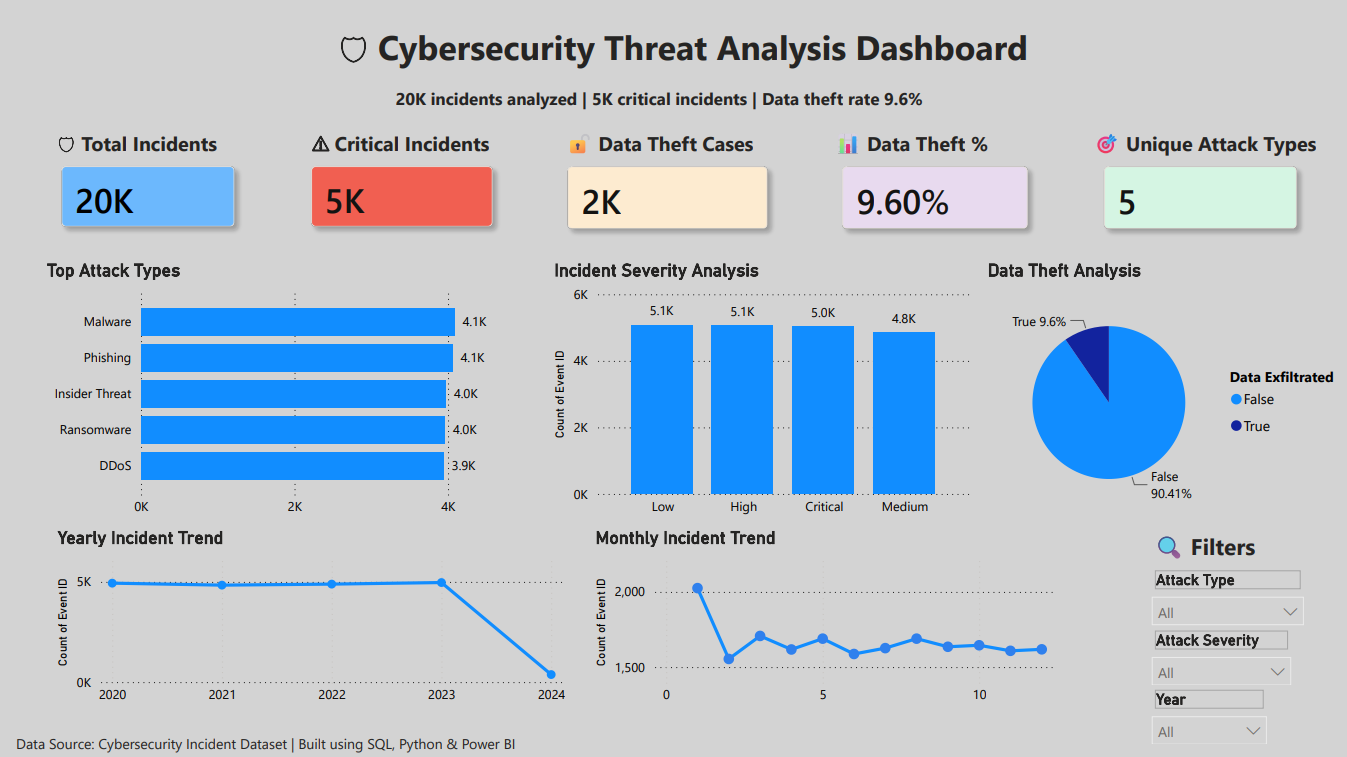

The page's visual inventory and layout, read from the dashboard file:
{"tool":"powerbi","page":{"name":"Page 1","canvas":[1280,720],"ordinal":0},"visuals":[{"type":"textbox","box":[9.8,15.9,1270.5,69.7],"z":0},{"type":"cardVisual","fields":{"Data":["cybersecurity_cleaned.Data Theft Cases"]},"box":[507.9,127.9,246.1,117],"z":1000},{"type":"clusteredBarChart","title":"Top Attack Types","fields":{"Category":["cybersecurity_cleaned.Attack Type"],"Y":["CountNonNull(cybersecurity_cleaned.Event ID)"]},"box":[38.6,244.9,469.3,252.1],"z":2000},{"type":"clusteredColumnChart","title":"Incident Severity Analysis","fields":{"Category":["cybersecurity_cleaned.Attack Severity"],"Y":["CountNonNull(cybersecurity_cleaned.Event ID)"]},"box":[518.8,244.9,403,252.1],"z":3000},{"type":"lineChart","title":"Yearly Incident Trend","fields":{"Y":["CountNonNull(cybersecurity_cleaned.Event ID)"],"Category":["cybersecurity_cleaned.Year"]},"box":[48.8,497.5,490,177.5],"z":4000},{"type":"lineChart","title":"Monthly Incident Trend","fields":{"Category":["cybersecurity_cleaned.Month"],"Y":["CountNonNull(cybersecurity_cleaned.Event ID)"]},"box":[557.5,497.5,442.5,177.5],"z":5000},{"type":"slicer","fields":{"Values":["cybersecurity_cleaned.Attack Type"]},"box":[1078.6,534.5,164.1,71.2],"z":6000},{"type":"slicer","fields":{"Values":["cybersecurity_cleaned.Attack Severity"]},"box":[1078.6,591.2,152,55.5],"z":7000},{"type":"slicer","fields":{"Values":["cybersecurity_cleaned.Year"]},"box":[1078.6,646.7,129.1,56.7],"z":8000},{"type":"pieChart","title":"Data Theft Analysis","fields":{"Category":["cybersecurity_cleaned.Data Exfiltrated"],"Y":["CountNonNull(cybersecurity_cleaned.Event ID)"]},"box":[929,244.9,351.1,252.1],"z":9000},{"type":"cardVisual","fields":{"Data":["cybersecurity_cleaned.total incidents"]},"box":[29,127.9,222,115.8],"z":10000},{"type":"textbox","box":[48.3,117,202.7,36.2],"z":11000},{"type":"cardVisual","fields":{"Data":["cybersecurity_cleaned.Critical Incidents"]},"box":[264.8,127.9,229.2,115.8],"z":12000},{"type":"textbox","box":[289.5,117,229.2,41],"z":13000},{"type":"textbox","box":[529.6,117,201.5,42.2],"z":14000},{"type":"textbox","box":[784.2,117,203.9,47.1],"z":15000},{"type":"textbox","box":[1029.1,117,229.2,39.8],"z":16000},{"type":"cardVisual","fields":{"Data":["cybersecurity_cleaned.Data theft %"]},"box":[767.9,127.9,232.8,117],"z":17000},{"type":"cardVisual","fields":{"Data":["cybersecurity_cleaned.Unique Attack Types"]},"box":[1014.6,127.9,240.1,117],"z":18000},{"type":"textbox","box":[1085.8,497.1,114.6,48.3],"z":19000},{"type":"textbox","box":[369.2,77.2,539.3,86.9],"z":20000},{"type":"textbox","box":[10,688.8,530,27.5],"z":21000}]}

Visuals, with their boxes in screenshot pixels (x1, y1, x2, y2), scaled from the page's 1280x720 canvas onto the 1347x757 screenshot:
textbox: {"x1": 10, "y1": 17, "x2": 1346, "y2": 90}
cardVisual - cybersecurity_cleaned.Data Theft Cases: {"x1": 534, "y1": 134, "x2": 793, "y2": 257}
"Top Attack Types" clusteredBarChart: {"x1": 41, "y1": 257, "x2": 534, "y2": 523}
"Incident Severity Analysis" clusteredColumnChart: {"x1": 546, "y1": 257, "x2": 970, "y2": 523}
"Yearly Incident Trend" lineChart: {"x1": 51, "y1": 523, "x2": 567, "y2": 710}
"Monthly Incident Trend" lineChart: {"x1": 587, "y1": 523, "x2": 1052, "y2": 710}
slicer - cybersecurity_cleaned.Attack Type: {"x1": 1135, "y1": 562, "x2": 1308, "y2": 637}
slicer - cybersecurity_cleaned.Attack Severity: {"x1": 1135, "y1": 622, "x2": 1295, "y2": 680}
slicer - cybersecurity_cleaned.Year: {"x1": 1135, "y1": 680, "x2": 1271, "y2": 740}
"Data Theft Analysis" pieChart: {"x1": 978, "y1": 257, "x2": 1346, "y2": 523}
cardVisual - cybersecurity_cleaned.total incidents: {"x1": 31, "y1": 134, "x2": 264, "y2": 256}
textbox: {"x1": 51, "y1": 123, "x2": 264, "y2": 161}
cardVisual - cybersecurity_cleaned.Critical Incidents: {"x1": 279, "y1": 134, "x2": 520, "y2": 256}
textbox: {"x1": 305, "y1": 123, "x2": 546, "y2": 166}
textbox: {"x1": 557, "y1": 123, "x2": 769, "y2": 167}
textbox: {"x1": 825, "y1": 123, "x2": 1040, "y2": 173}
textbox: {"x1": 1083, "y1": 123, "x2": 1324, "y2": 165}
cardVisual - cybersecurity_cleaned.Data theft %: {"x1": 808, "y1": 134, "x2": 1053, "y2": 257}
cardVisual - cybersecurity_cleaned.Unique Attack Types: {"x1": 1068, "y1": 134, "x2": 1320, "y2": 257}
textbox: {"x1": 1143, "y1": 523, "x2": 1263, "y2": 573}
textbox: {"x1": 389, "y1": 81, "x2": 956, "y2": 173}
textbox: {"x1": 11, "y1": 724, "x2": 568, "y2": 753}
